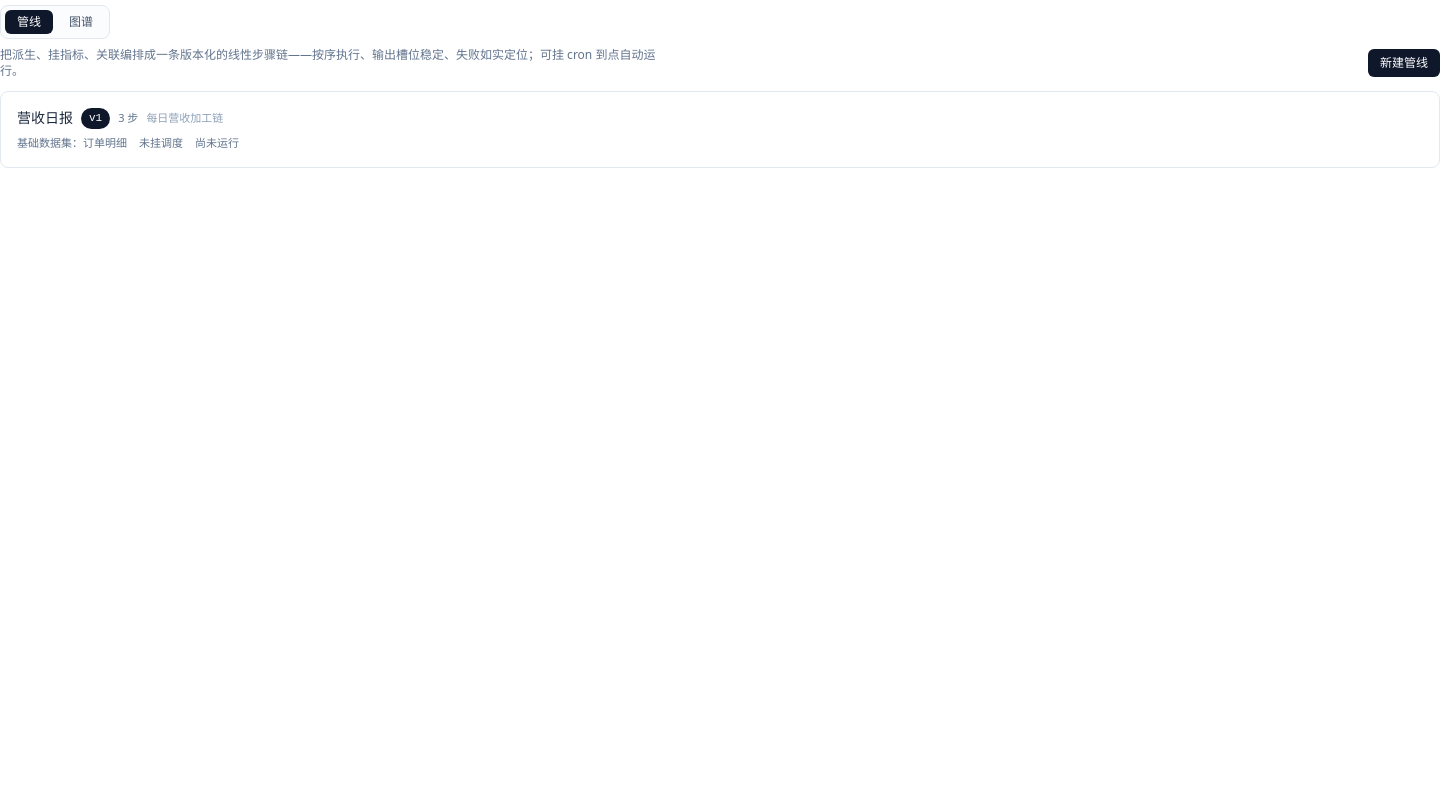
Test: 管线工作台 · 编辑器（5.2） › 版本语义明示：改步骤出「步骤变更将创建新版本 v2」，保存后徽标升 v2、v1 原样可查
The image size is (1440, 792).
Click the button with test id "pipeline-row" at (45, 118), box left=0, top=91, right=1439, bottom=168
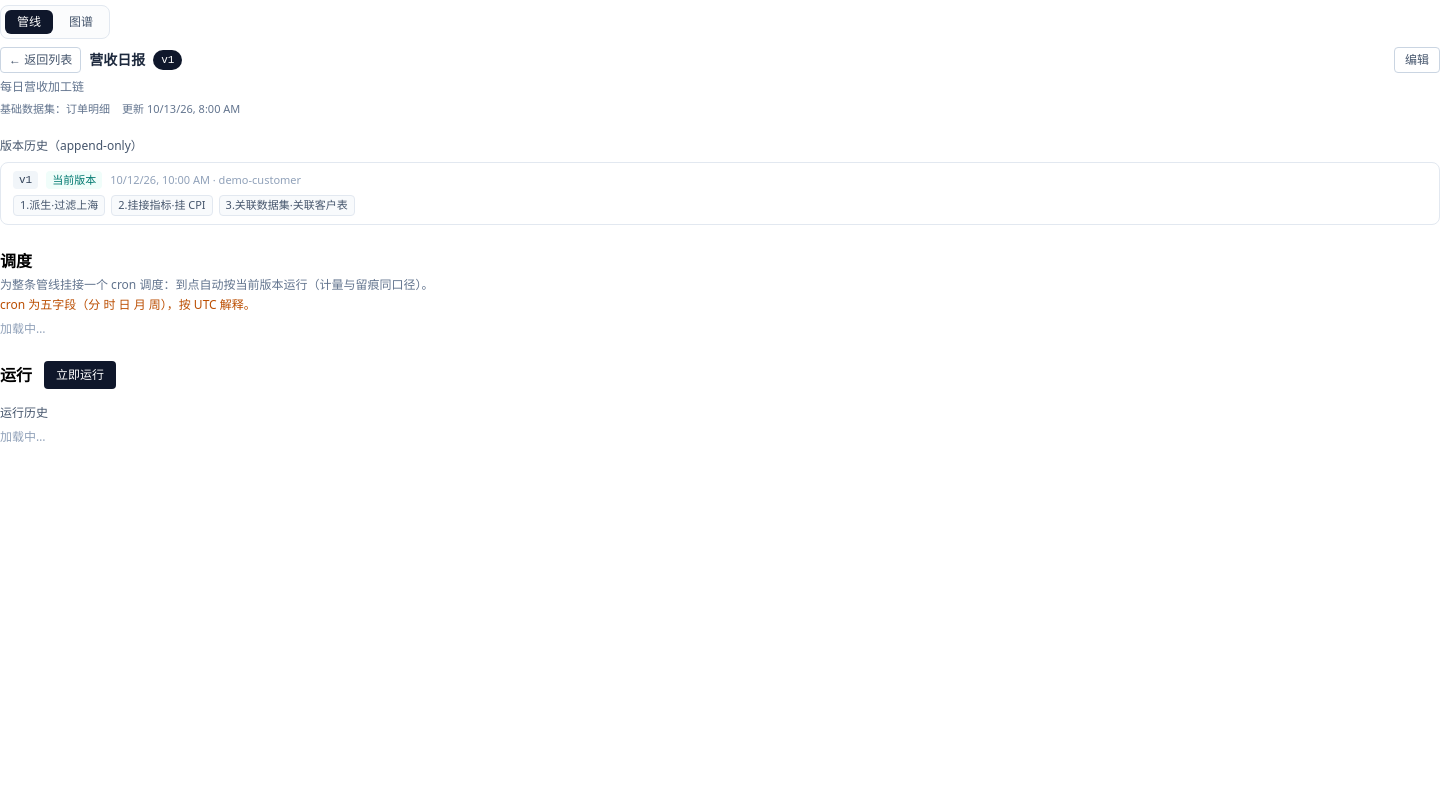
Result: the element with test id "pipeline-detail" is shown at left=0, top=47, right=1439, bottom=445
Result: the text with test id "pipeline-detail-version" reads "v1" at left=153, top=50, right=182, bottom=70
Click the button with test id "pipeline-edit" at (1417, 60), box left=1394, top=47, right=1439, bottom=73
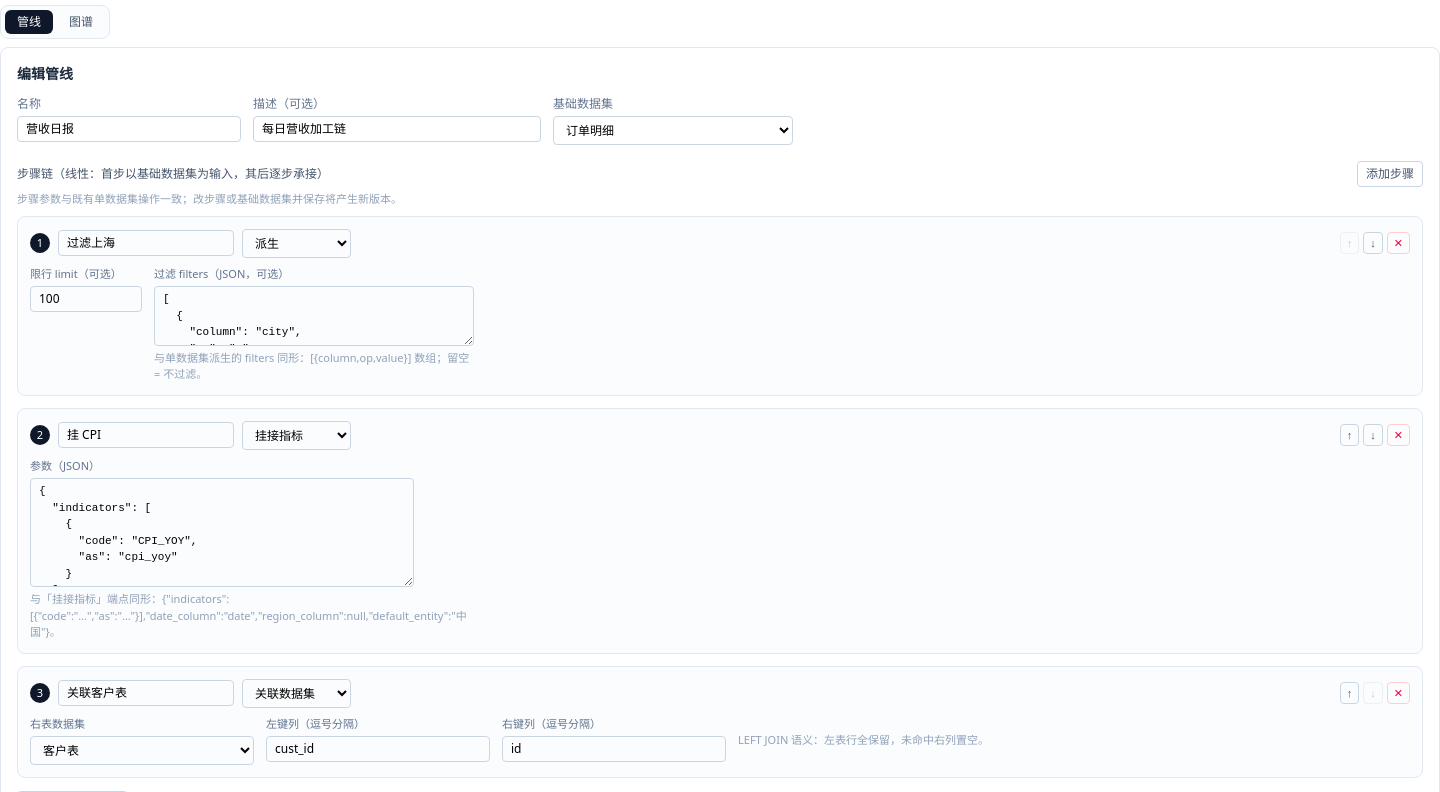
Note: 改第 1 步名称 → 明示 v2；保存 PUT 带 steps
Replace the text in the 1st field with test id "pipeline-step-name" with "过滤北京" at (146, 243), box left=58, top=230, right=234, bottom=256
(page scrolled)
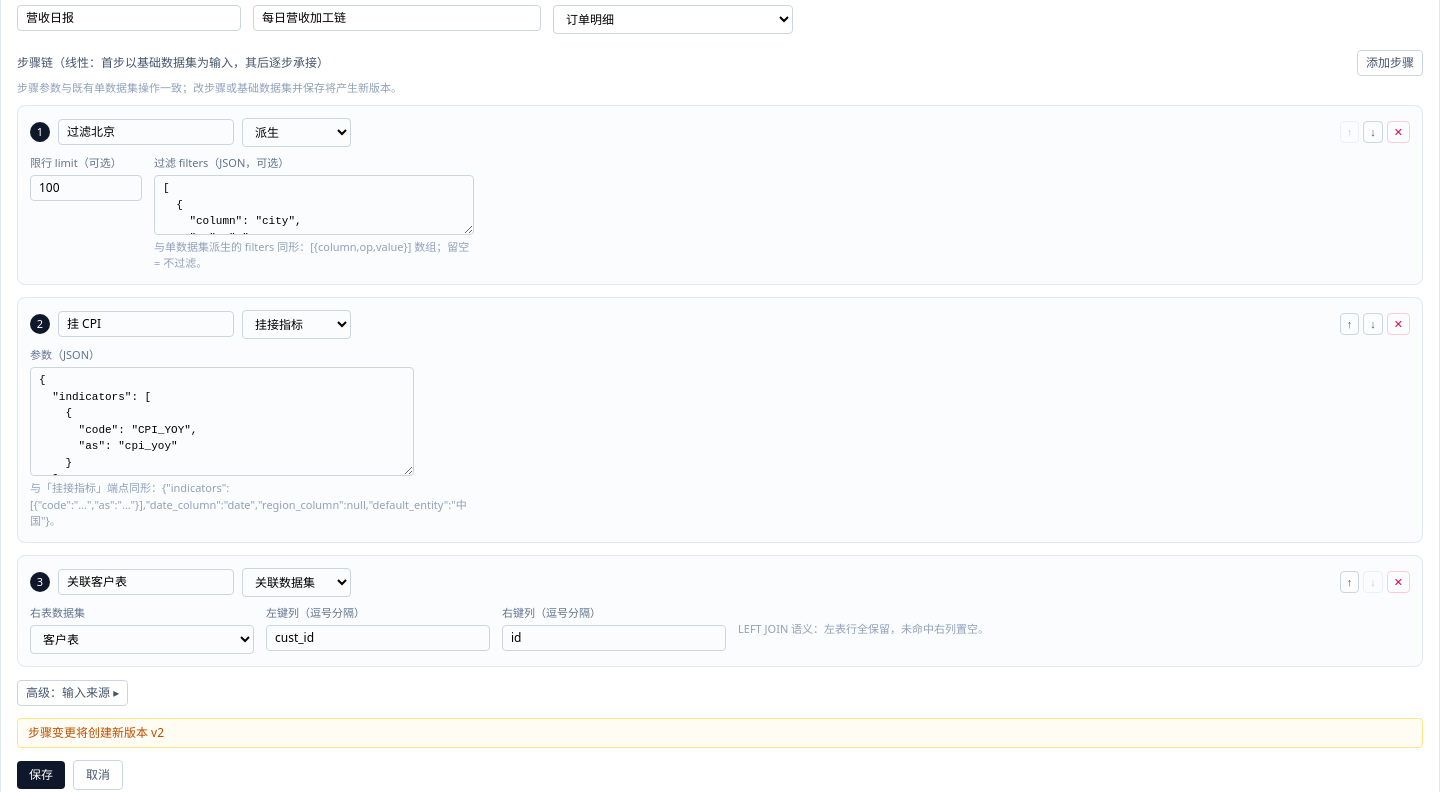
Result: the text with test id "pipeline-version-confirm" reads "步骤变更将创建新版本 v2" at left=28, top=724, right=164, bottom=741
Click the button with test id "pipeline-editor-save" at (41, 775), box left=17, top=761, right=65, bottom=789
(page scrolled)
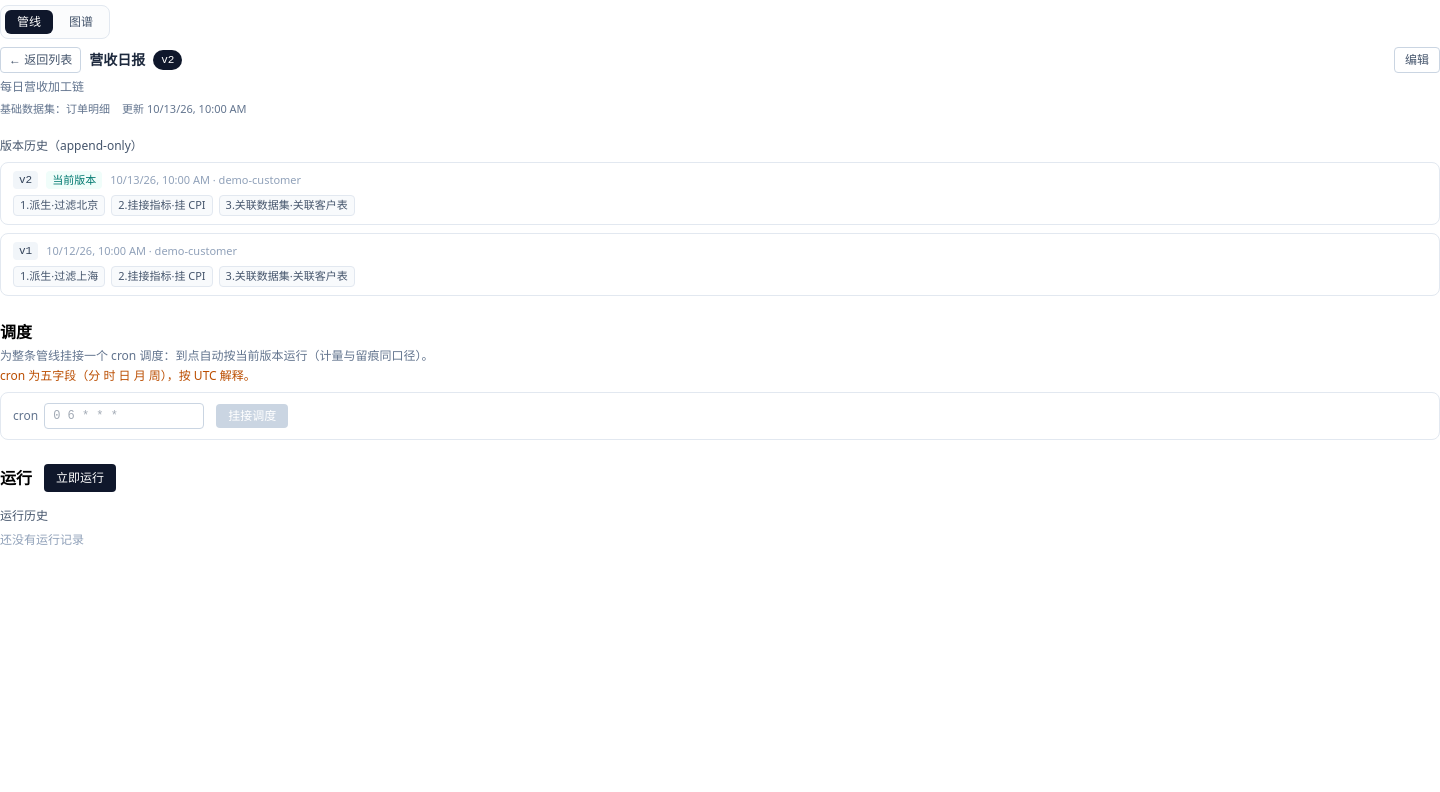
Result: the element with test id "pipeline-detail" is shown
Result: the text with test id "pipeline-detail-version" reads "v2" at left=153, top=50, right=182, bottom=70
Result: the text with test id "pipeline-version-current-2" reads "当前版本" at left=52, top=172, right=96, bottom=186
